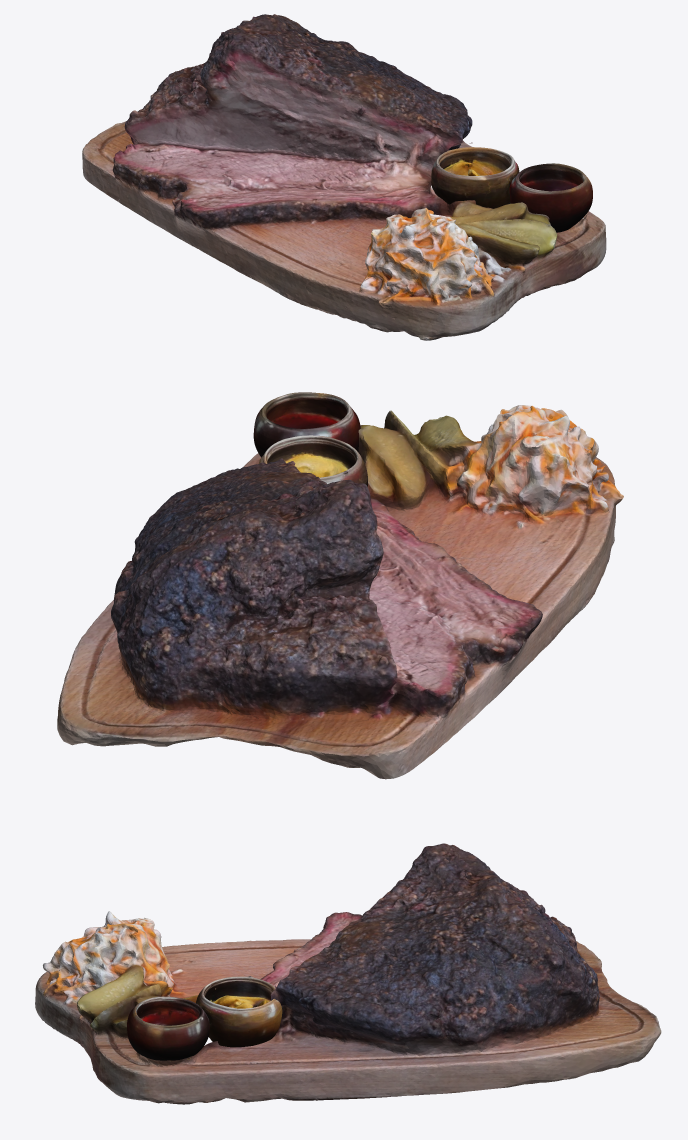
Rendered from staike.bozorg.behine.glb.
The picture shows the model from 3 angles, top to bottom: view 1: azimuth 30°, elevation 25°; view 2: azimuth 150°, elevation 25°; view 3: azimuth 270°, elevation 25°; orthographic projection. The views are drawn at different scales.
Visible parts, largest first — view 1: object 1, world; view 2: object 1, world; view 3: object 1, world.
Boxes of the visible parts, x1,y1,x2,y2 form: object 1: [82, 14, 606, 340]; world: [431, 147, 592, 232]; object 1: [57, 405, 623, 779]; world: [253, 392, 367, 486]; object 1: [35, 843, 661, 1104]; world: [127, 976, 282, 1060].
Bounding box in the file's own units: 0.2321 × 0.0914 × 0.3422.
3 materials, 2 textured.
